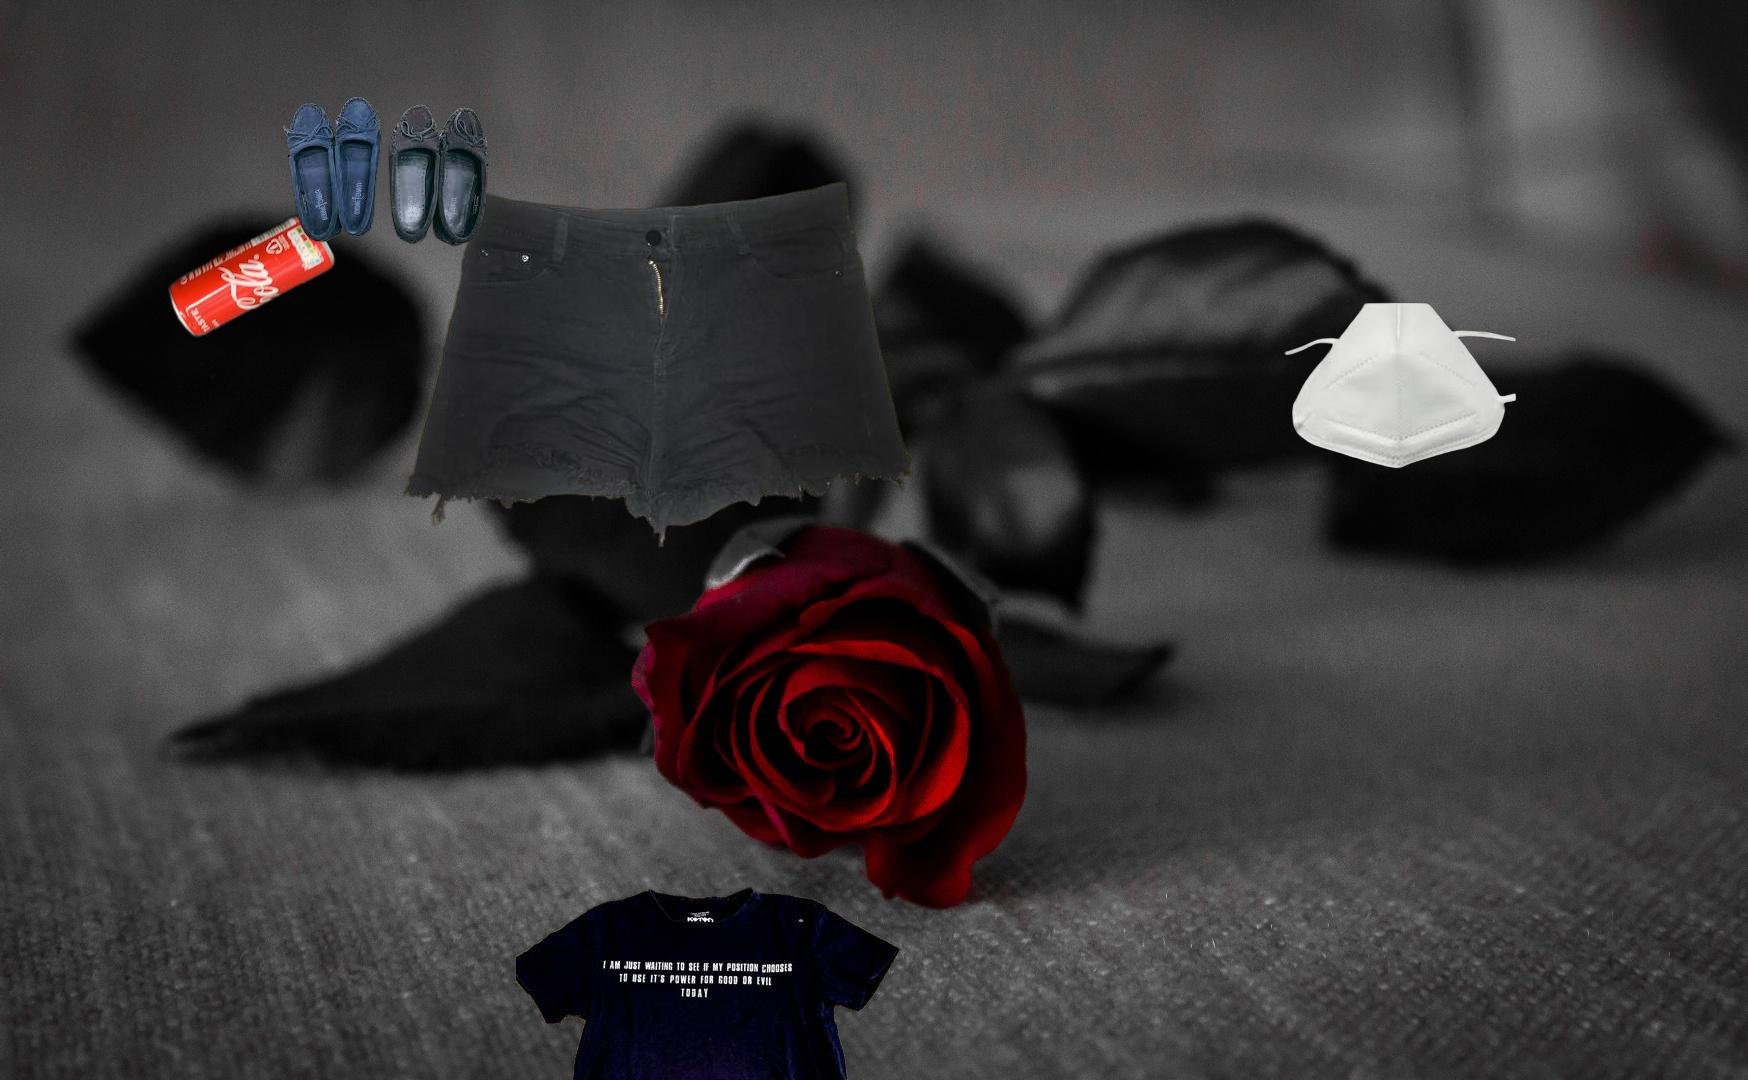clothes: (400, 179, 915, 547), (516, 840, 916, 1080)
metal-cans: (164, 207, 340, 345)
shoes: (280, 94, 491, 248)
trash: (1284, 300, 1520, 471)
